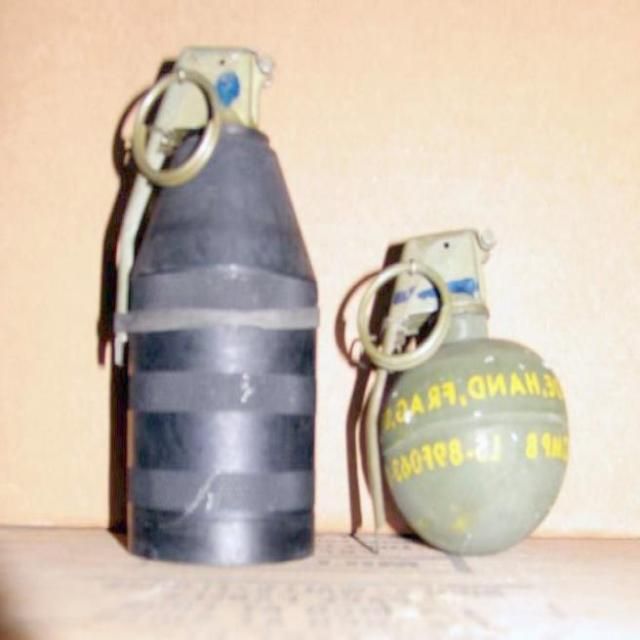grenade: (114, 47, 322, 567), (357, 229, 569, 556)
